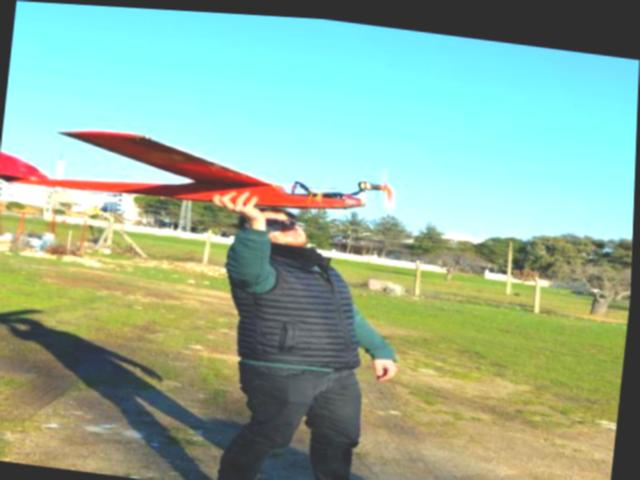iha: (0, 96, 411, 240)
